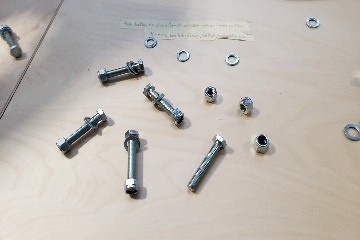Bolt: (183, 134, 230, 194)
FalseAssembly: (54, 107, 109, 156), (121, 128, 147, 198), (1, 23, 24, 59)
FinishedAssembly: (141, 80, 187, 127), (96, 57, 147, 85)
Nut: (236, 95, 256, 116), (251, 133, 271, 154), (202, 85, 220, 104)
Washer: (341, 123, 360, 141), (225, 51, 241, 67), (175, 48, 191, 62), (305, 16, 322, 29), (143, 35, 157, 49)
